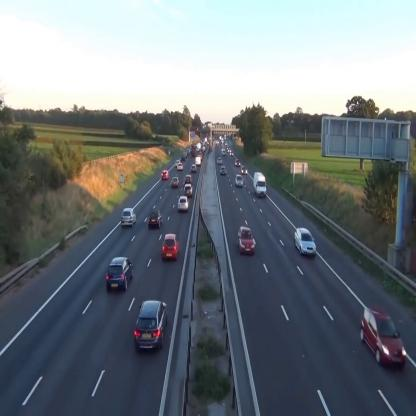car: (360, 306, 406, 368), (135, 301, 168, 350), (107, 256, 133, 292), (294, 228, 316, 256), (238, 226, 254, 256), (163, 234, 179, 261), (148, 210, 162, 228), (122, 209, 136, 227), (178, 196, 189, 211), (184, 184, 192, 198), (172, 177, 180, 188), (184, 174, 192, 185), (235, 174, 242, 186), (161, 170, 169, 180), (240, 166, 248, 175), (177, 162, 183, 171), (221, 166, 226, 175), (191, 165, 197, 172)
lorry: (253, 172, 267, 197)
